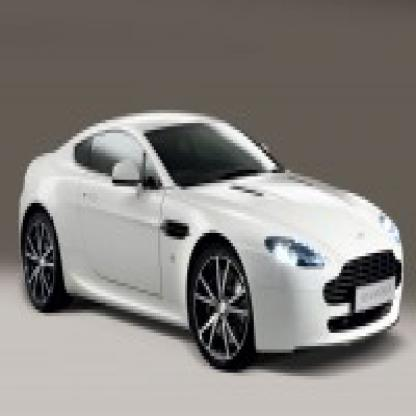Vehicle: (16, 110, 406, 396)
